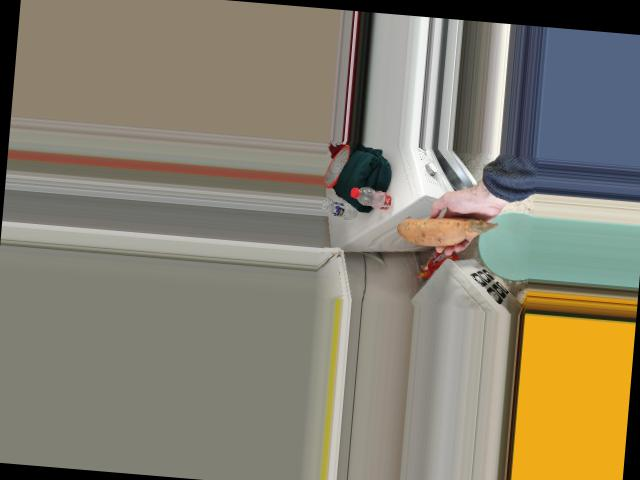sweet_potato: (397, 213, 483, 252)
